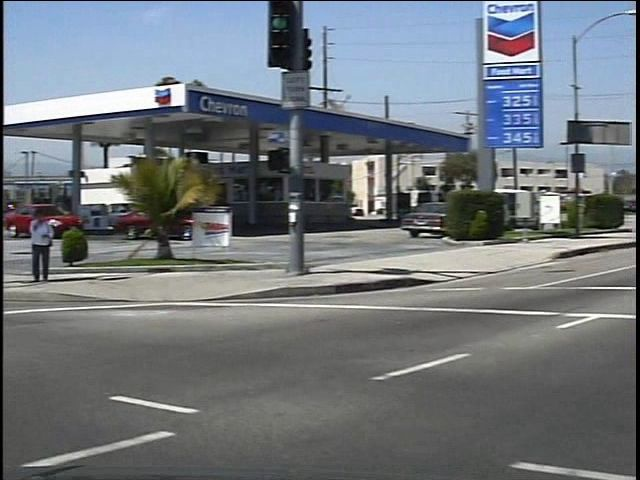person: (20, 203, 51, 288)
